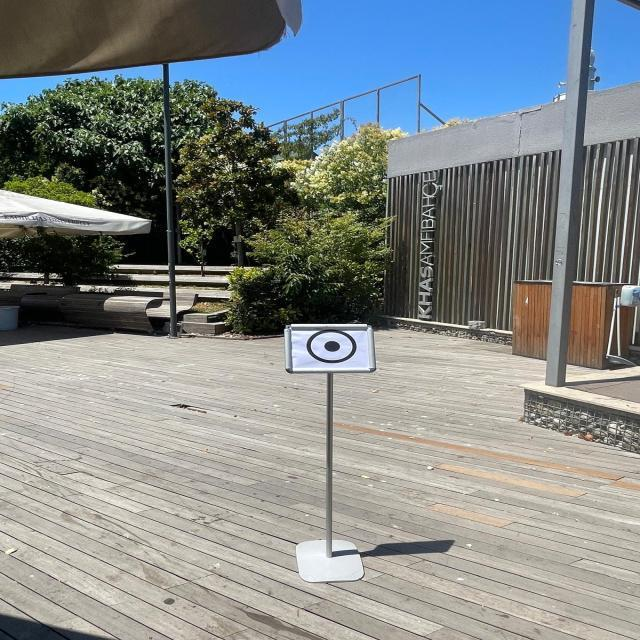Target: (272, 310, 391, 384)
inner: (316, 337, 350, 358)
